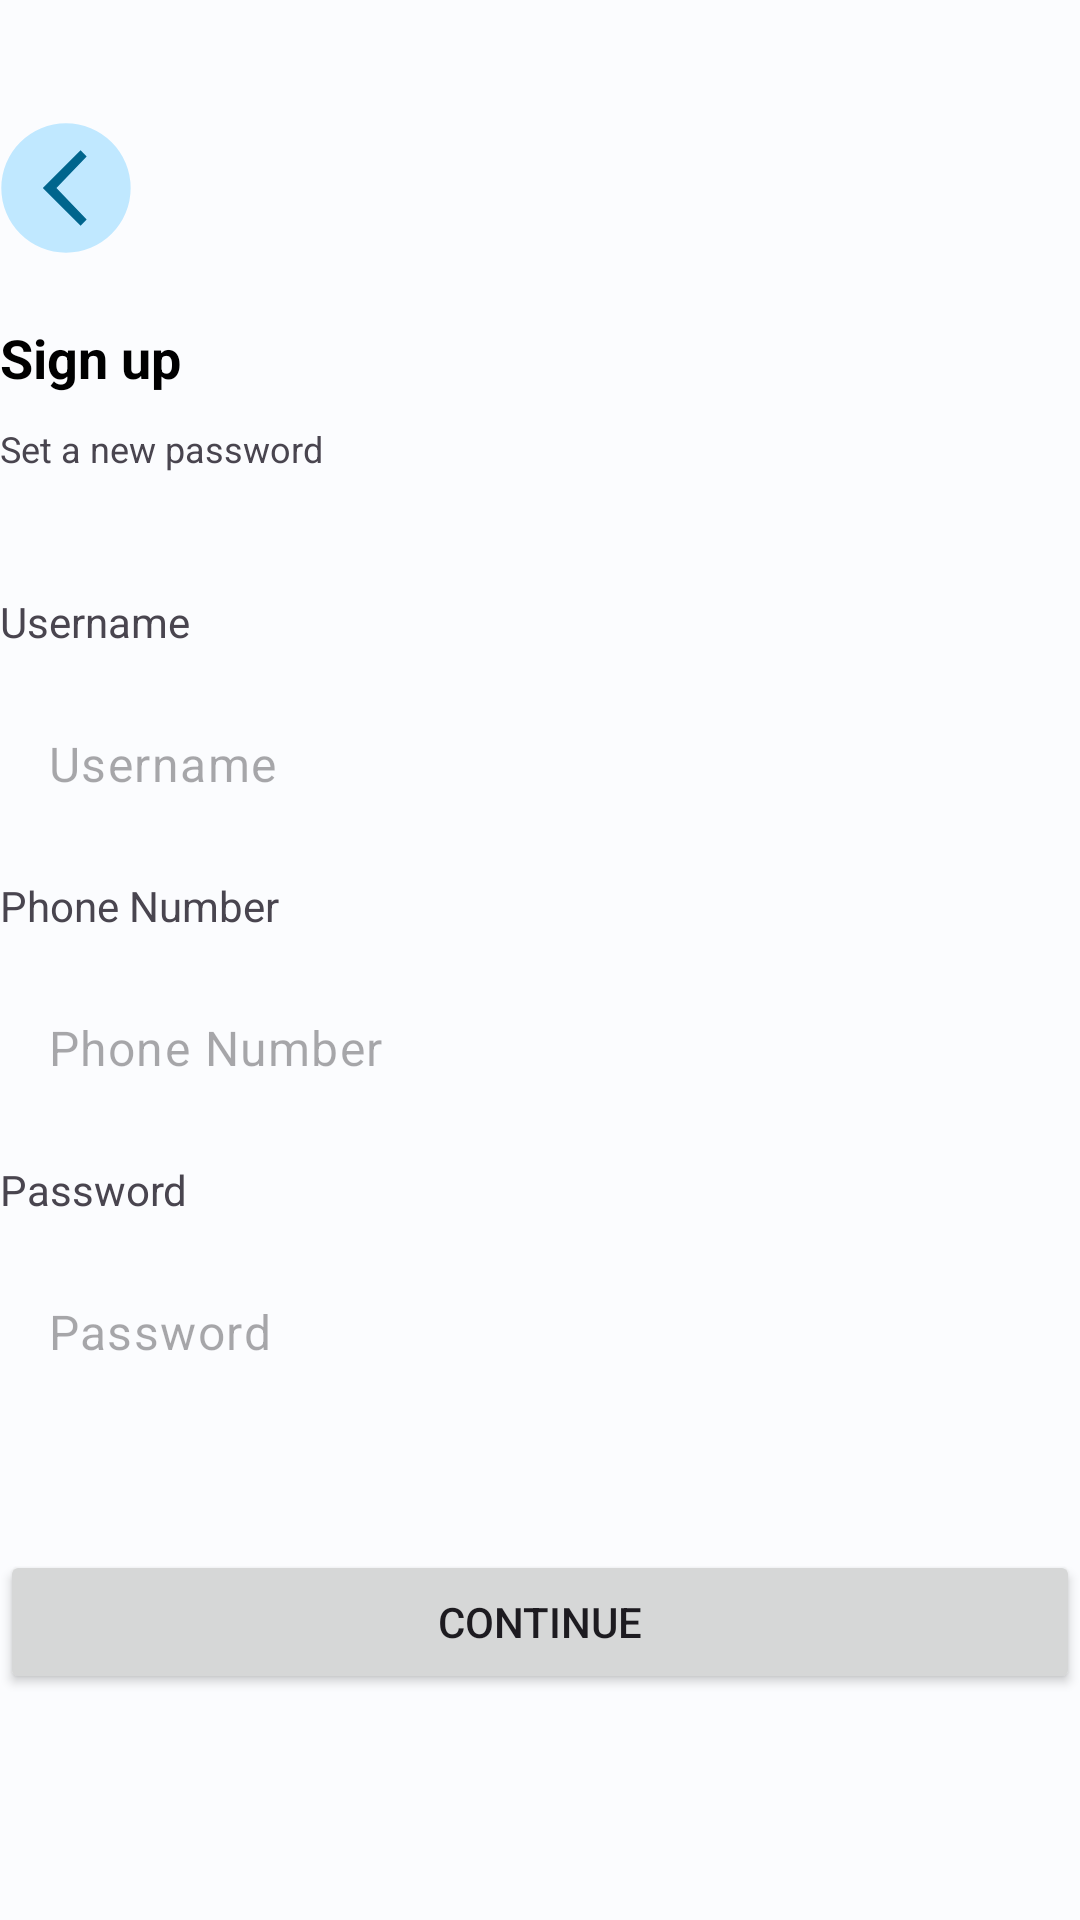

Screen size 1080 × 1920. Icon name, then its center in pixels as (x,y):
Back: (66,188)
